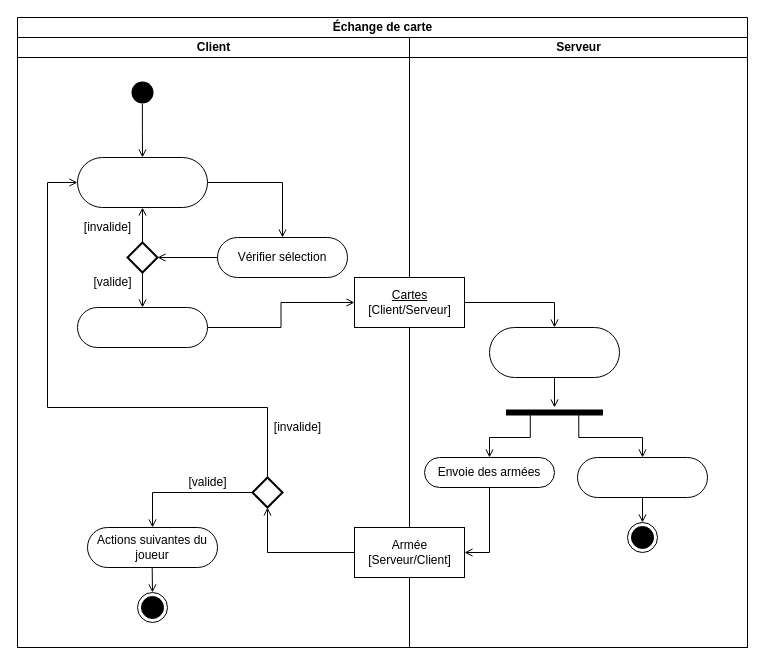
Some shapes in this 765 by 665 pixel diagram are drawn without their labels. The centre of each missing label's shape, as x and y in pixels:
"Attente d'un nouvel appel au serveur" goes at point 642,477.
"Envoie les cartes a échanger" goes at point 142,327.
"Sélectionner cartes à échanger" goes at point 142,182.
"Vérifier conformité de l'échange" goes at point 554,352.
